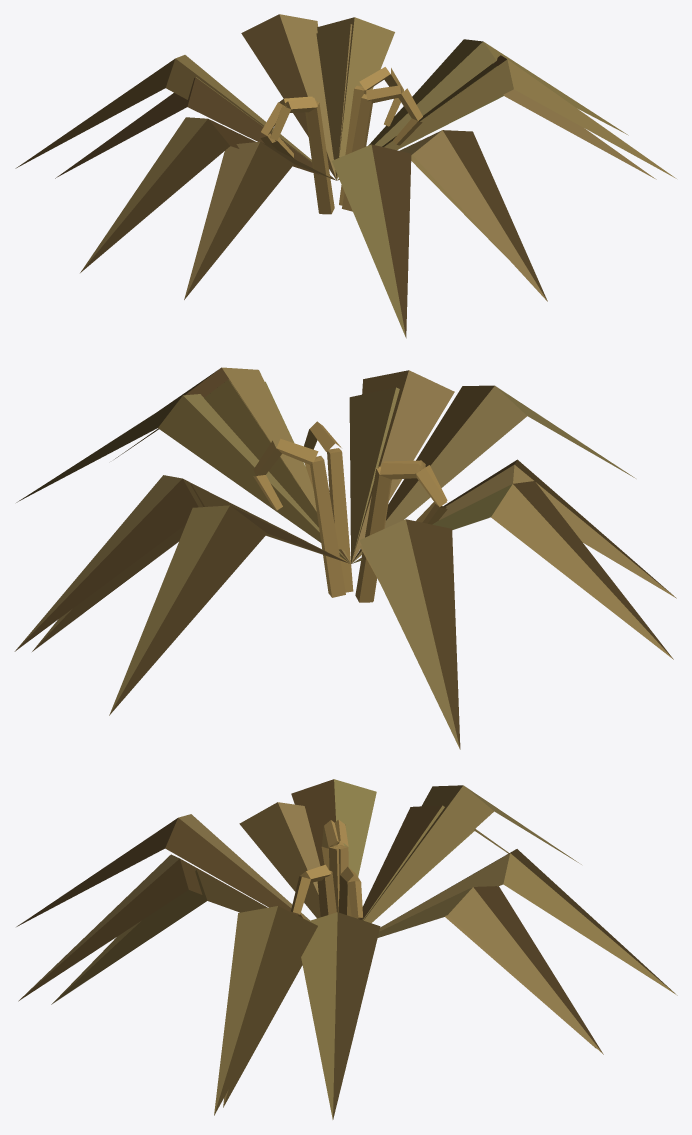
The model's file is hollow-fern.glb.
3 views of the same model, one above another, from view 1: azimuth 30°, elevation 25°; view 2: azimuth 150°, elevation 25°; view 3: azimuth 270°, elevation 25° (orthographic). The views are drawn at different scales.
Parts seen in each view (by area): view 1: hollow-fern-a, hollow-fern-c, hollow-fern-b; view 2: hollow-fern-a, hollow-fern-c, hollow-fern-b; view 3: hollow-fern-c, hollow-fern-a, hollow-fern-b.
Part boxes in pixels (left/top/right/bottom): hollow-fern-a: left=80, top=14, right=628, bottom=301; hollow-fern-c: left=15, top=17, right=676, bottom=338; hollow-fern-b: left=55, top=24, right=656, bottom=299; hollow-fern-a: left=16, top=370, right=673, bottom=715; hollow-fern-c: left=14, top=367, right=635, bottom=749; hollow-fern-b: left=32, top=379, right=676, bottom=651; hollow-fern-c: left=16, top=785, right=603, bottom=1115; hollow-fern-a: left=18, top=779, right=677, bottom=1119; hollow-fern-b: left=51, top=802, right=596, bottom=1107.
Size of the model in its own units: 0.7727 by 0.1838 by 0.7637.
